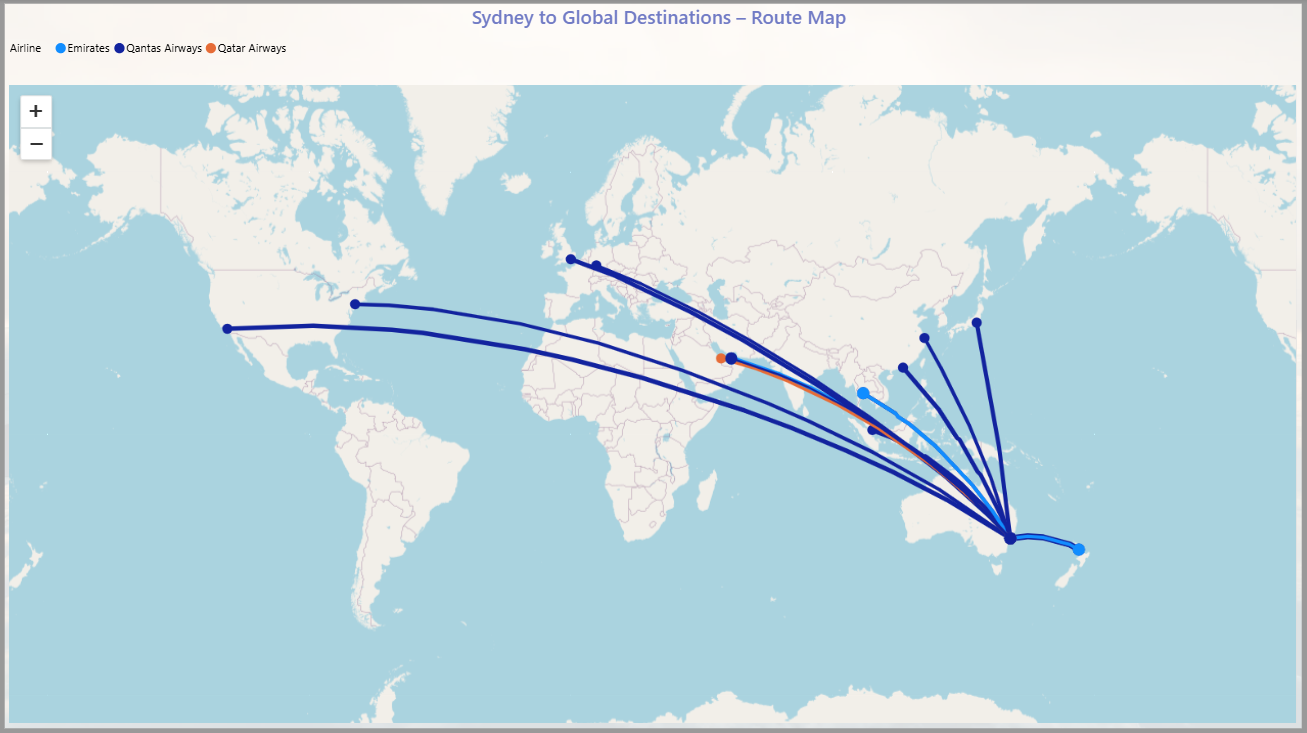

This screenshot's page, from the dashboard's own definition file:
{"tool":"powerbi","page":{"name":"Sydney to Global Destination - Route Map","canvas":[1280,720],"ordinal":2},"visuals":[{"type":"textbox","box":[0,0,550.3,61.7],"z":0},{"type":"routeMap","title":"Sydney to Global Destinations – Route Map","fields":{"legend":["Flights.Airline"],"origin":["Flights.Australian_City"],"destination":["Flights.International_City"],"lineWidth":["Sum(Flights.All_Flights)"],"originLat":["Flights.Origin_Latitude"],"originLng":["Flights.Origin_Longitude"],"destLat":["Flights.Destination_Latitude"],"destLng":["Flights.Destination_Longitude"]},"box":[0,0,1280.3,720.2],"z":1000}]}

Visuals, with their boxes in screenshot pixels (x1, y1, x2, y2), scaled from the page's 1280x720 canvas onto the 1307x733 screenshot:
textbox: left=0, top=0, right=562, bottom=63
"Sydney to Global Destinations – Route Map" routeMap: left=0, top=0, right=1306, bottom=732
